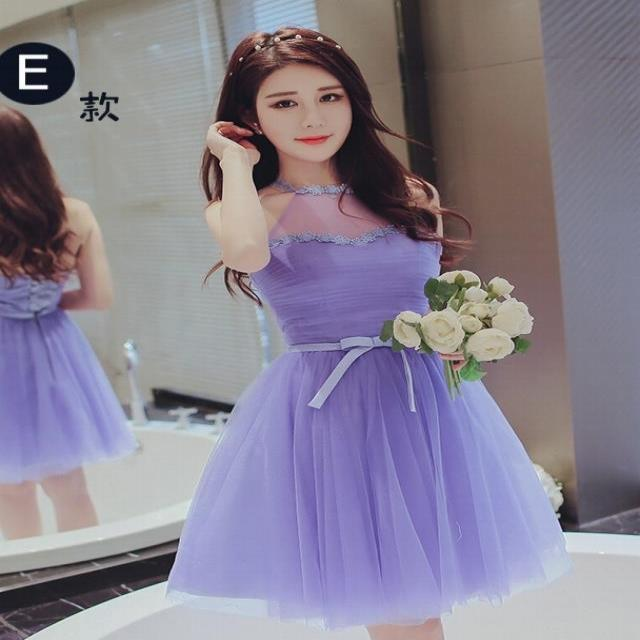clothes: (195, 175, 569, 618)
